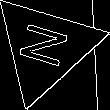N_E: (15, 21, 76, 75)
